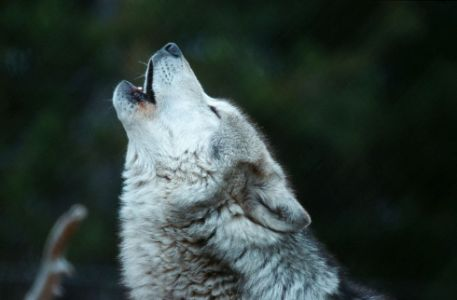wolf: (109, 39, 362, 294)
